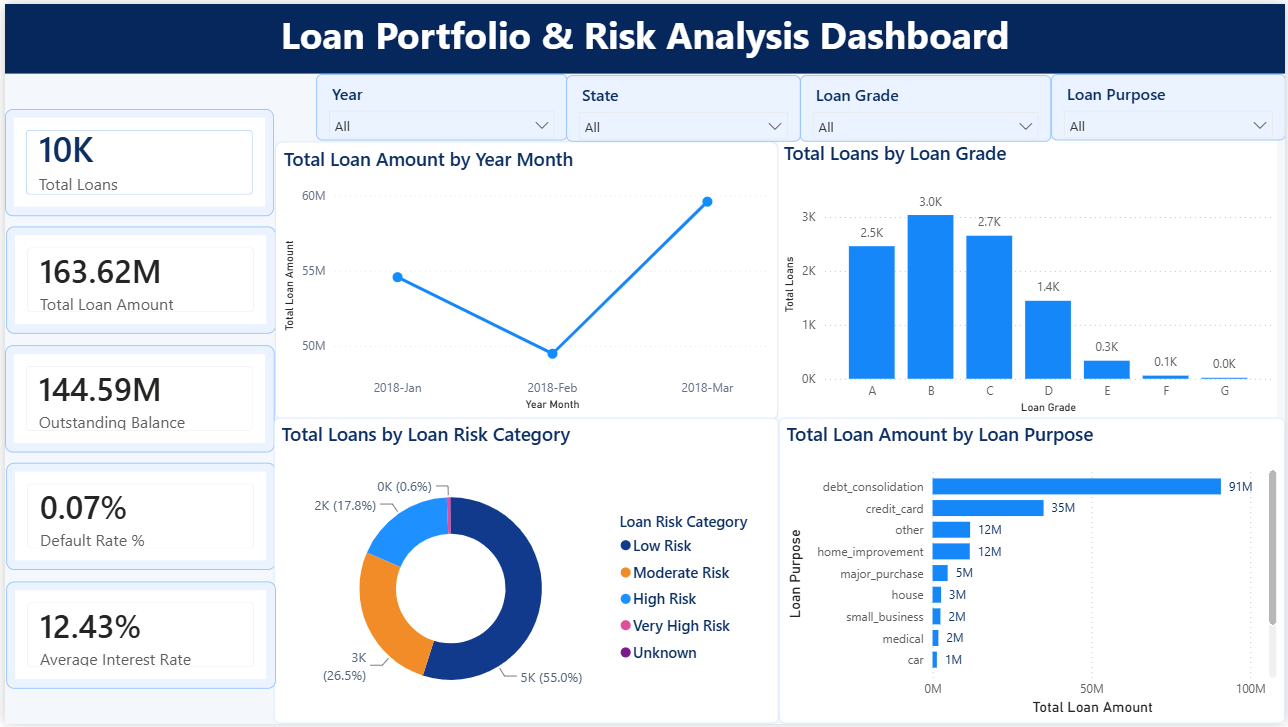

What the dashboard file says about the page in this screenshot:
{"tool":"powerbi","page":{"name":"Executive Overview","canvas":[1280,720],"ordinal":0},"visuals":[{"type":"cardVisual","fields":{"Data":["_Measures.Total Loan Amount"]},"box":[1.3,223,269.3,107.4],"z":0},{"type":"cardVisual","fields":{"Data":["_Measures.Outstanding Balance"]},"box":[0,341.1,269.3,107.4],"z":1000},{"type":"cardVisual","fields":{"Data":["_Measures.Default Rate %"]},"box":[0.6,459.2,269.3,107.4],"z":2000},{"type":"lineChart","fields":{"Category":["DimDate.Year Month"],"Y":["_Measures.Total Loan Amount"]},"box":[270.6,137.2,503.6,278.3],"z":3000},{"type":"clusteredColumnChart","fields":{"Category":["DimLoan.Loan Grade"],"Y":["_Measures.Total Loans"]},"box":[774.1,135.9,498.4,278.3],"z":4000},{"type":"donutChart","fields":{"Category":["DimLoan.Loan Risk Category"],"Y":["_Measures.Total Loans"]},"box":[269.3,414.2,504.9,305.5],"z":5000},{"type":"clusteredBarChart","fields":{"Category":["FactLoans.Loan Purpose"],"Y":["_Measures.Total Loan Amount"]},"box":[774.1,414.2,506.2,305.5],"z":6000},{"type":"cardVisual","fields":{"Data":["_Measures.Average Interest Rate"]},"box":[1.3,577.3,269.3,107.4],"z":7000},{"type":"slicer","fields":{"Values":["DimDate.Year"]},"box":[310.7,69.9,251.1,66],"z":8000},{"type":"shape","box":[0,0,1280,70],"z":9000},{"type":"textbox","box":[0,0,1280.3,69.9],"z":10000},{"type":"slicer","fields":{"Values":["DimGeography.State"]},"box":[561.8,71.2,234.3,66],"z":11000},{"type":"slicer","fields":{"Values":["DimLoan.Loan Grade"]},"box":[794.8,71.2,251.1,66],"z":12000},{"type":"slicer","fields":{"Values":["FactLoans.Loan Purpose"]},"box":[1046,69.9,234.3,66],"z":13000},{"type":"cardVisual","fields":{"Data":["_Measures.Total Loans"]},"box":[0,104.9,268,107.4],"z":14000}]}

Visuals, with their boxes in screenshot pixels (x1, y1, x2, y2), scaled from the page's 1280x720 canvas onto the 1288x727 screenshot:
cardVisual - _Measures.Total Loan Amount: 1,225,272,334
cardVisual - _Measures.Outstanding Balance: 0,344,271,453
cardVisual - _Measures.Default Rate %: 1,464,272,572
lineChart - DimDate.Year Month x _Measures.Total Loan Amount: 272,139,779,420
clusteredColumnChart - DimLoan.Loan Grade x _Measures.Total Loans: 779,137,1280,418
donutChart - DimLoan.Loan Risk Category x _Measures.Total Loans: 271,418,779,726
clusteredBarChart - FactLoans.Loan Purpose x _Measures.Total Loan Amount: 779,418,1287,726
cardVisual - _Measures.Average Interest Rate: 1,583,272,691
slicer - DimDate.Year: 313,71,565,137
shape: 0,0,1287,71
textbox: 0,0,1287,71
slicer - DimGeography.State: 565,72,801,139
slicer - DimLoan.Loan Grade: 800,72,1052,139
slicer - FactLoans.Loan Purpose: 1053,71,1287,137
cardVisual - _Measures.Total Loans: 0,106,270,214
